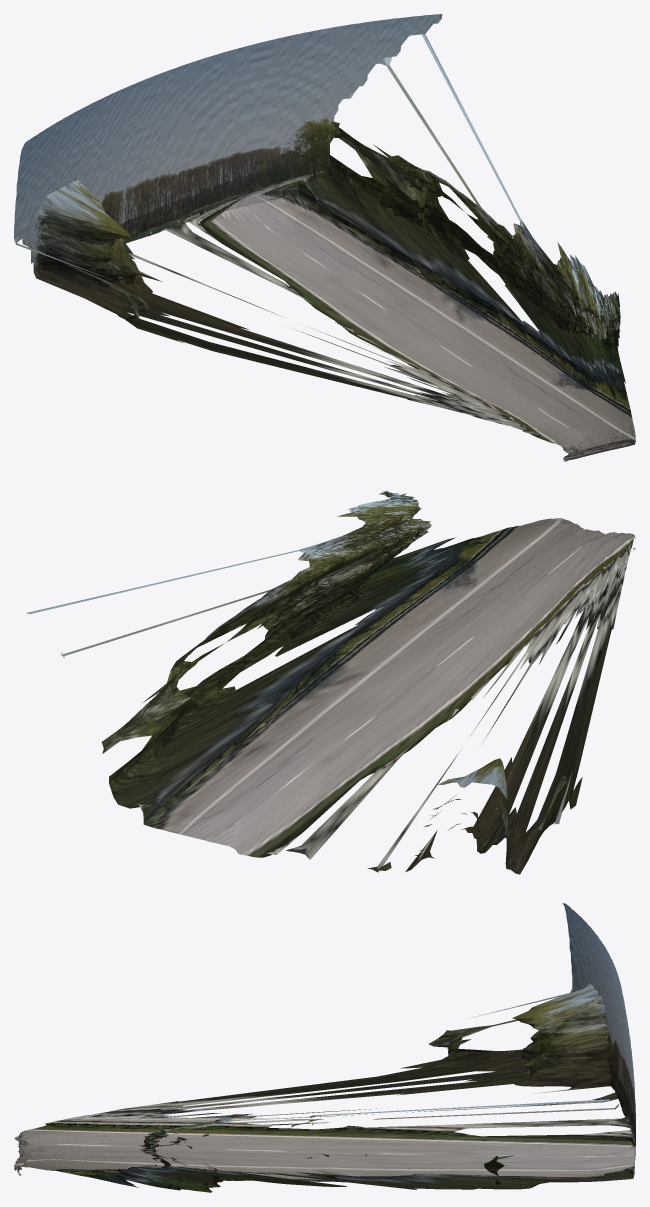
The picture shows the model from 3 angles, top to bottom: view 1: azimuth 30°, elevation 25°; view 2: azimuth 150°, elevation 25°; view 3: azimuth 270°, elevation 25°; orthographic projection. The views are drawn at different scales.
Parts seen in each view (by area): view 1: defaultobject; view 2: defaultobject; view 3: defaultobject.
Part boxes in pixels (left/top/right/bottom): defaultobject: left=14, top=14, right=635, bottom=461; defaultobject: left=26, top=490, right=635, bottom=874; defaultobject: left=14, top=903, right=635, bottom=1192.
Size of the model in its own units: 32.88 by 12.09 by 44.34.
Materials: 1 (1 with a texture image).
